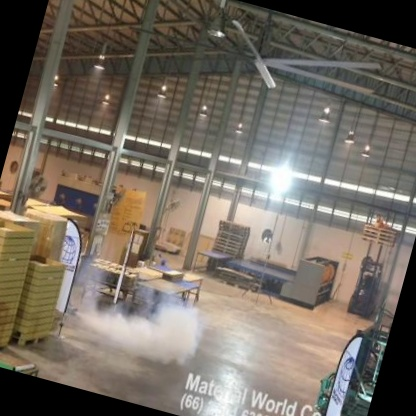smoke: (66, 256, 213, 377)
